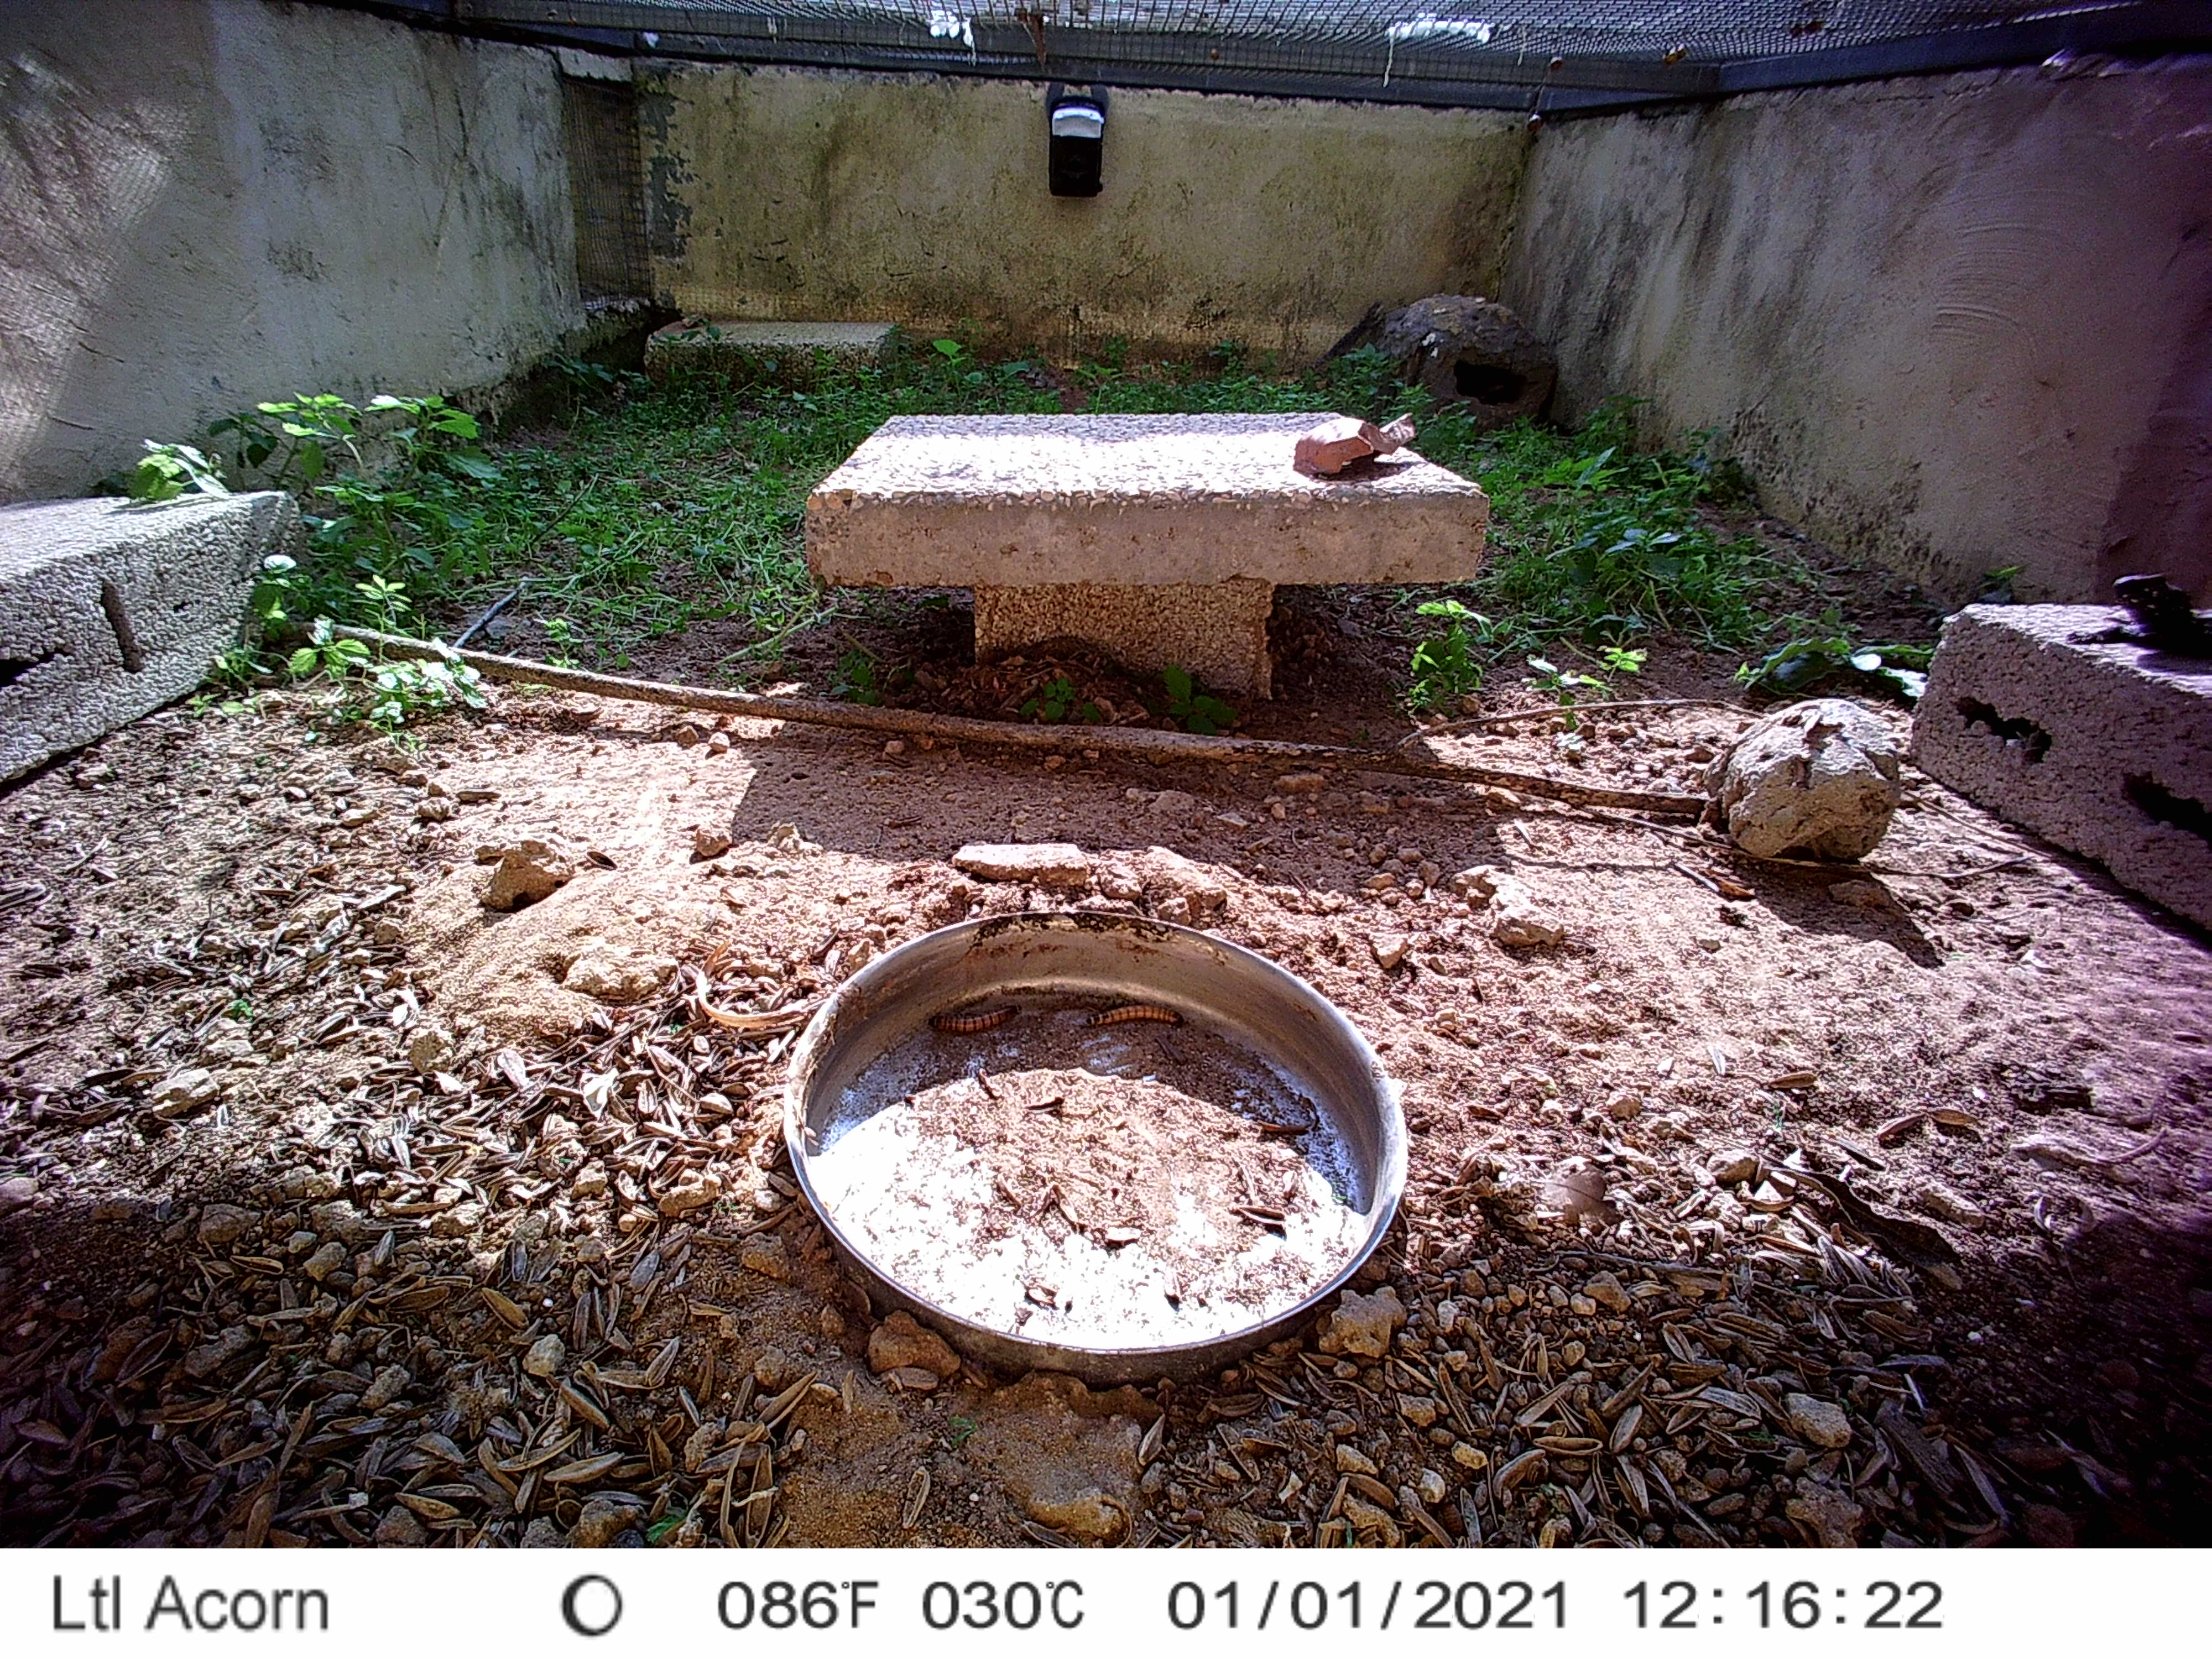lizard: (2067, 572, 2212, 676), (1306, 296, 1395, 369)
